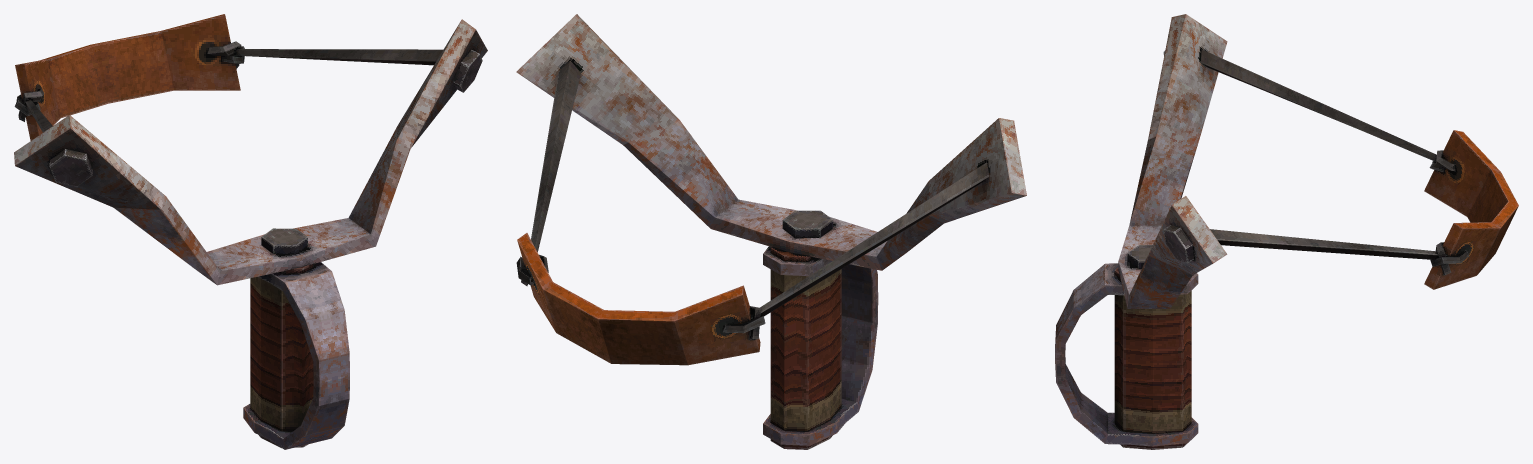
The model's file is item_slingshot.glb.
The picture shows the model from 3 angles, left to right: view 1: azimuth 30°, elevation 25°; view 2: azimuth 150°, elevation 25°; view 3: azimuth 270°, elevation 25°; orthographic projection. The views are drawn at different scales.
Visible parts, largest first — view 1: Body, Pouch, BandL; view 2: Body, Pouch, BandR, BandL; view 3: Body, Pouch, BandR, BandL.
Part boxes in pixels (left/top/right/bottom): Body: left=14, top=19, right=487, bottom=449; Pouch: left=14, top=14, right=244, bottom=140; BandL: left=233, top=49, right=442, bottom=65; Body: left=516, top=14, right=1026, bottom=449; Pouch: left=516, top=233, right=765, bottom=365; BandR: left=750, top=162, right=989, bottom=319; BandL: left=531, top=60, right=580, bottom=252; Body: left=1055, top=14, right=1227, bottom=449; Pouch: left=1424, top=130, right=1518, bottom=289; BandR: left=1200, top=49, right=1436, bottom=161; BandL: left=1210, top=229, right=1447, bottom=259.
Bounding box in the file's own units: 0.3282 × 0.234 × 0.2938.
Materials: 1 (1 with a texture image).
